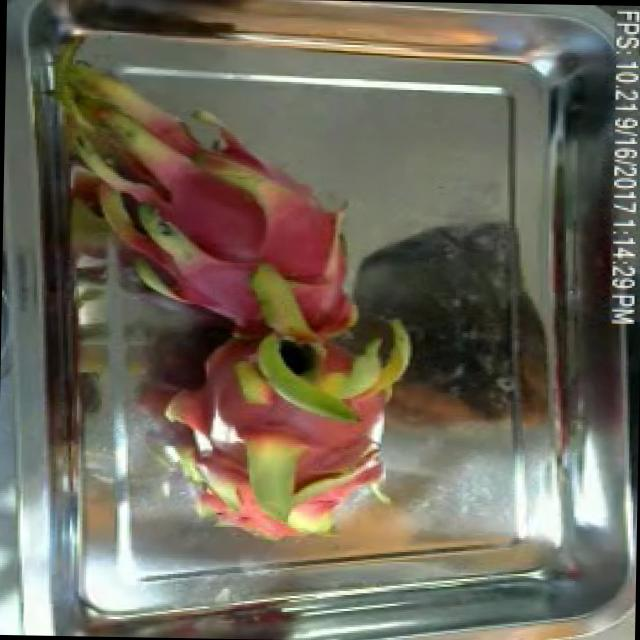Fruit: (180, 426, 272, 516)
